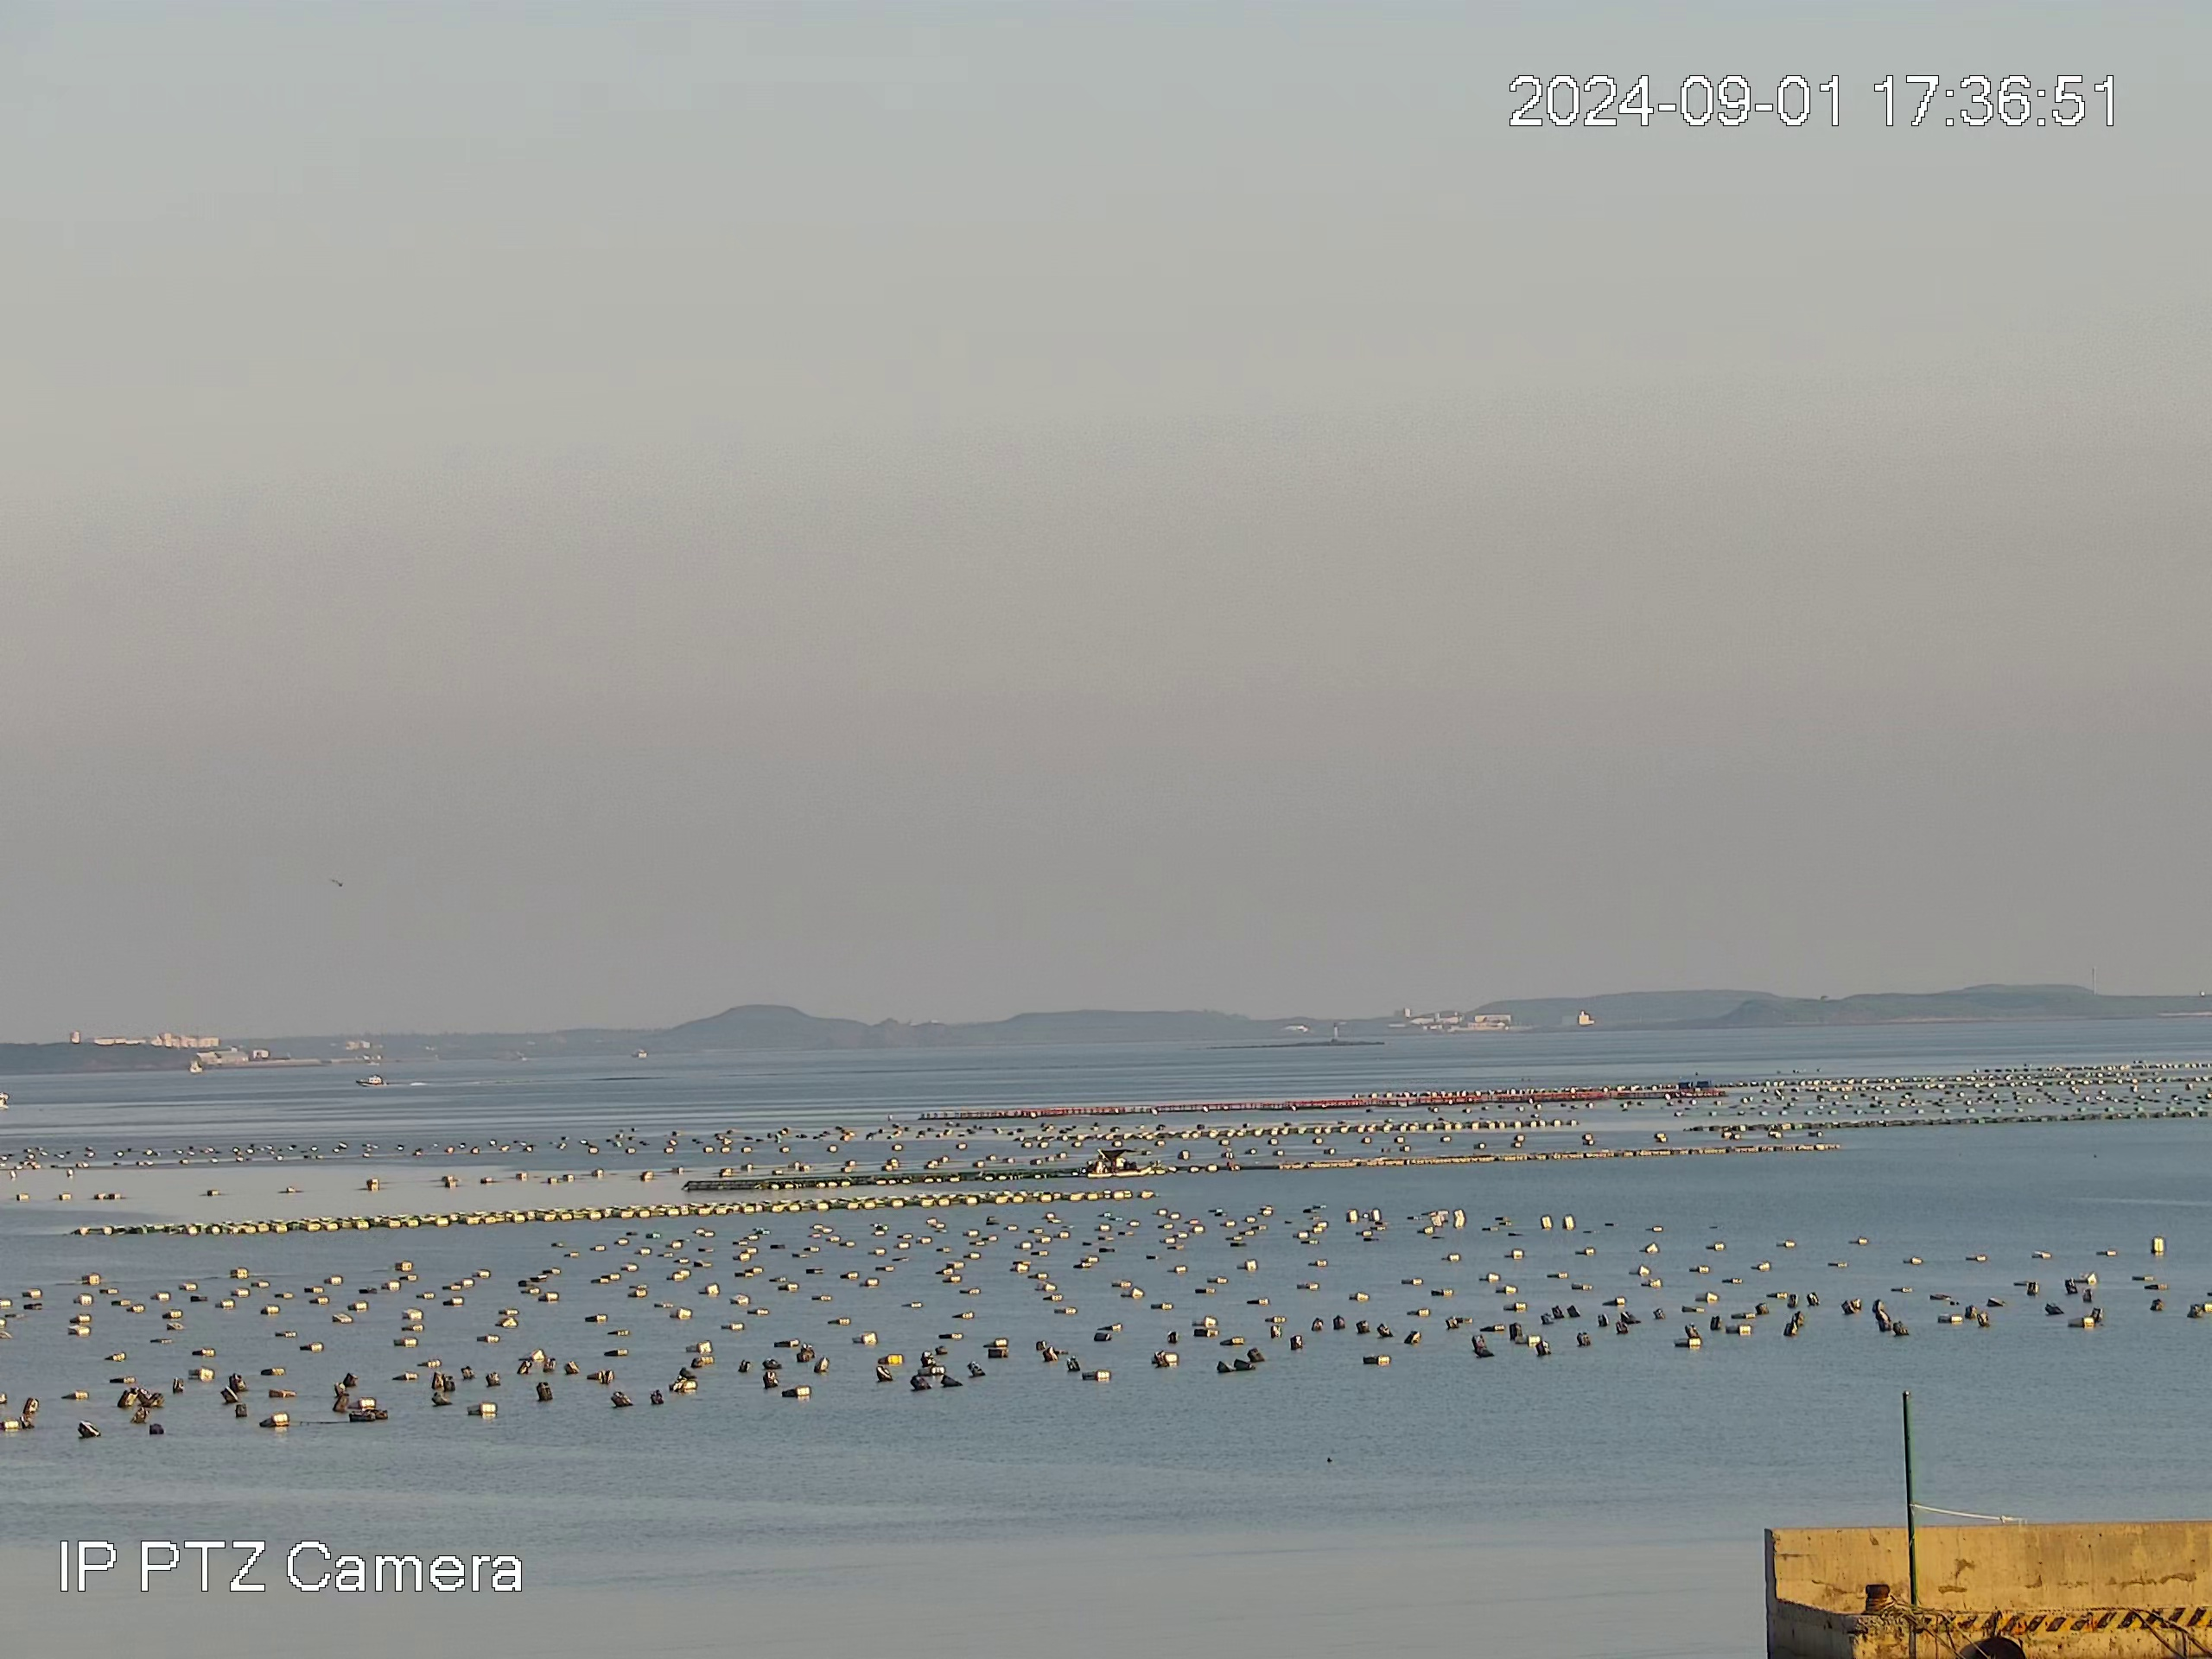boat: (1087, 1145, 1153, 1176)
